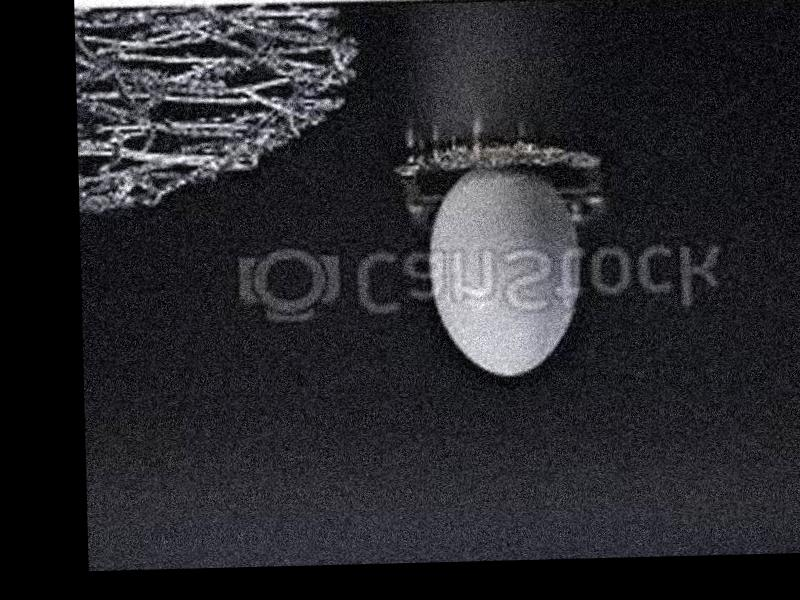Eggs: (425, 164, 583, 377)
